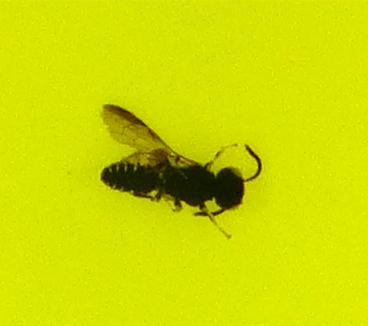Hymenoptera: (100, 100, 268, 226)
